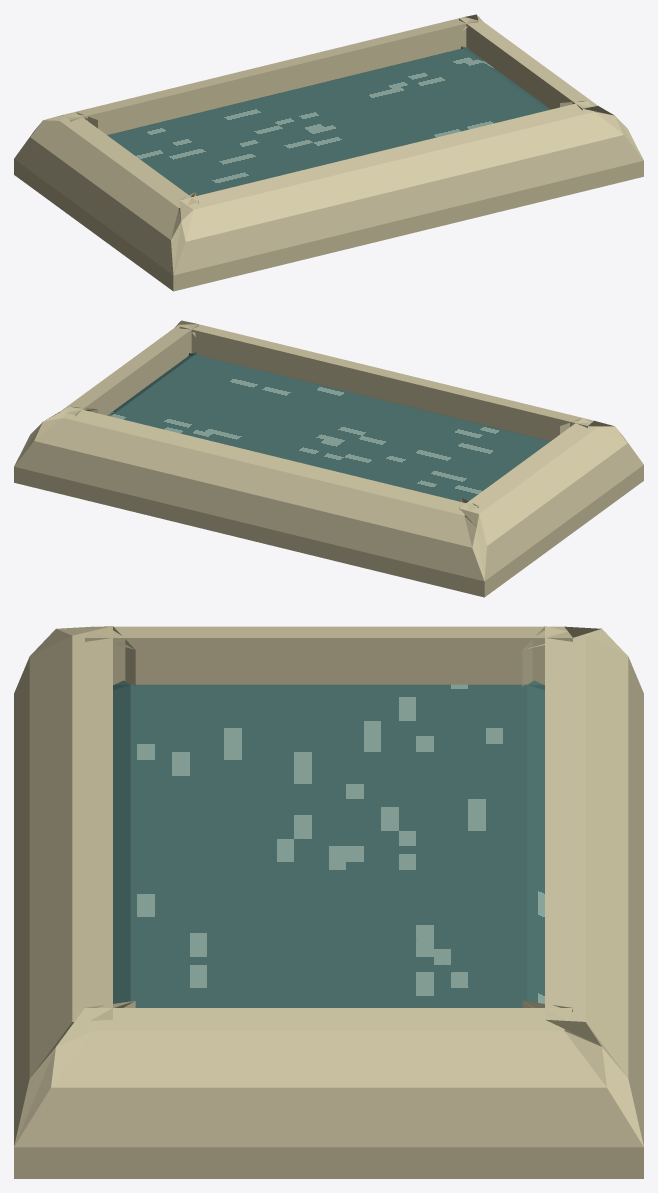
Rendered from tub.glb.
3 renders of one model, top to bottom at view 1: azimuth 30°, elevation 25°; view 2: azimuth 150°, elevation 25°; view 3: azimuth 270°, elevation 25°, orthographic. The views are drawn at different scales.
Visible parts, largest first — view 1: Tub; view 2: Tub; view 3: Tub.
Boxes of the visible parts, x1,y1,x2,y2 form: Tub: (14,14,643,291); Tub: (14,320,643,597); Tub: (14,626,643,1178).
Bounding box in the file's own units: 9.2 × 1.4 × 5.4.
Materials: 3 (1 with a texture image).
